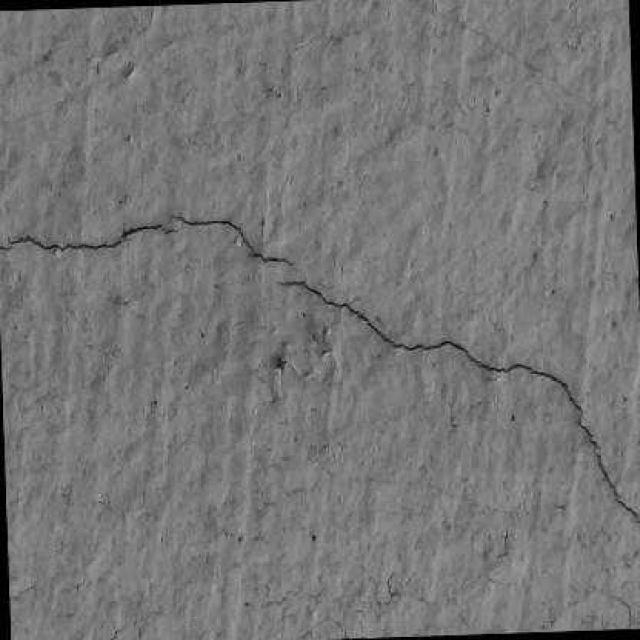D00: (279, 281, 640, 524), (168, 217, 290, 263), (0, 224, 178, 252)
